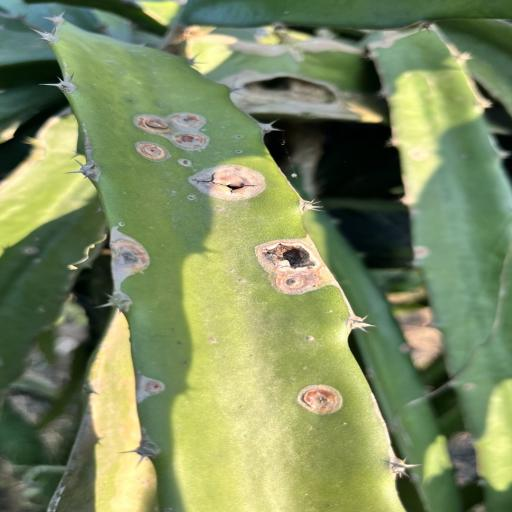stemcanker: (226, 131, 260, 157), (222, 264, 254, 290), (175, 192, 209, 209), (296, 330, 322, 347), (175, 155, 198, 174), (145, 378, 168, 396), (207, 332, 227, 350), (210, 200, 230, 217), (117, 221, 133, 231)
